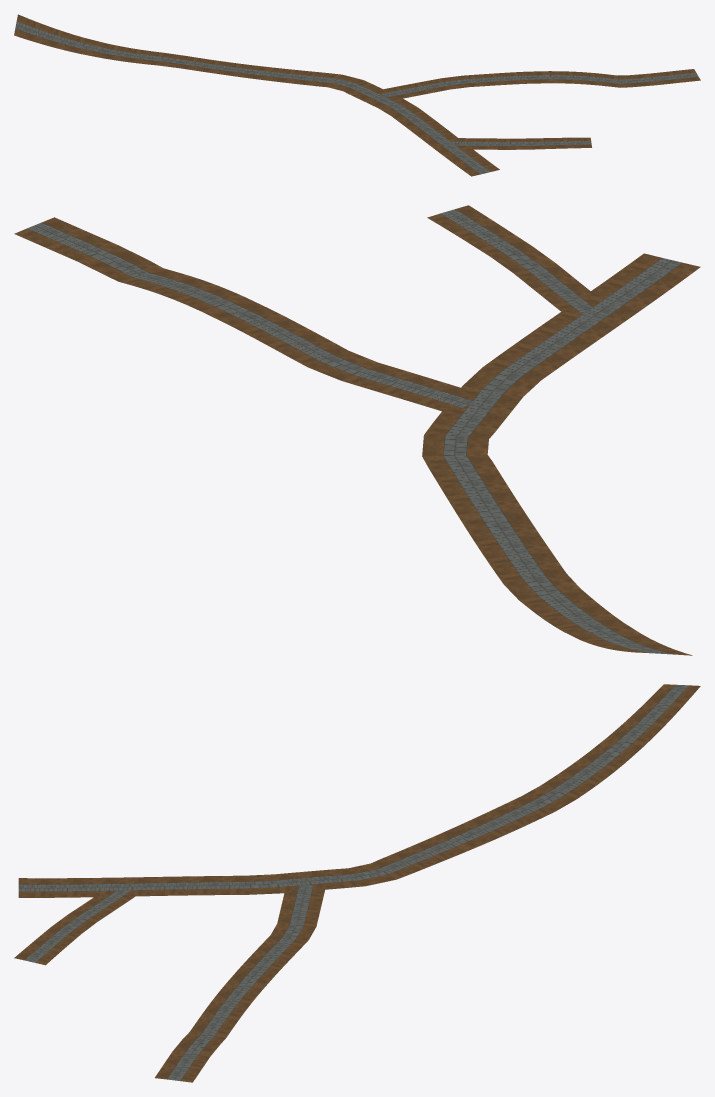
Rendered from road_network_v5.obj.
3 views of the same model, one above another, from view 1: azimuth 30°, elevation 25°; view 2: azimuth 150°, elevation 25°; view 3: azimuth 270°, elevation 25° (orthographic). The views are drawn at different scales.
Visible parts, largest first — view 1: StoryWorld_RoadNetwork_v5; view 2: StoryWorld_RoadNetwork_v5; view 3: StoryWorld_RoadNetwork_v5.
Part boxes in pixels (bbox=[...]): StoryWorld_RoadNetwork_v5: bbox=[14, 14, 700, 176]; StoryWorld_RoadNetwork_v5: bbox=[14, 205, 700, 655]; StoryWorld_RoadNetwork_v5: bbox=[14, 684, 700, 1082].
Bounding box in the file's own units: 74.75 × 5.9 × 62.11.
Materials: 2 (2 with a texture image).
